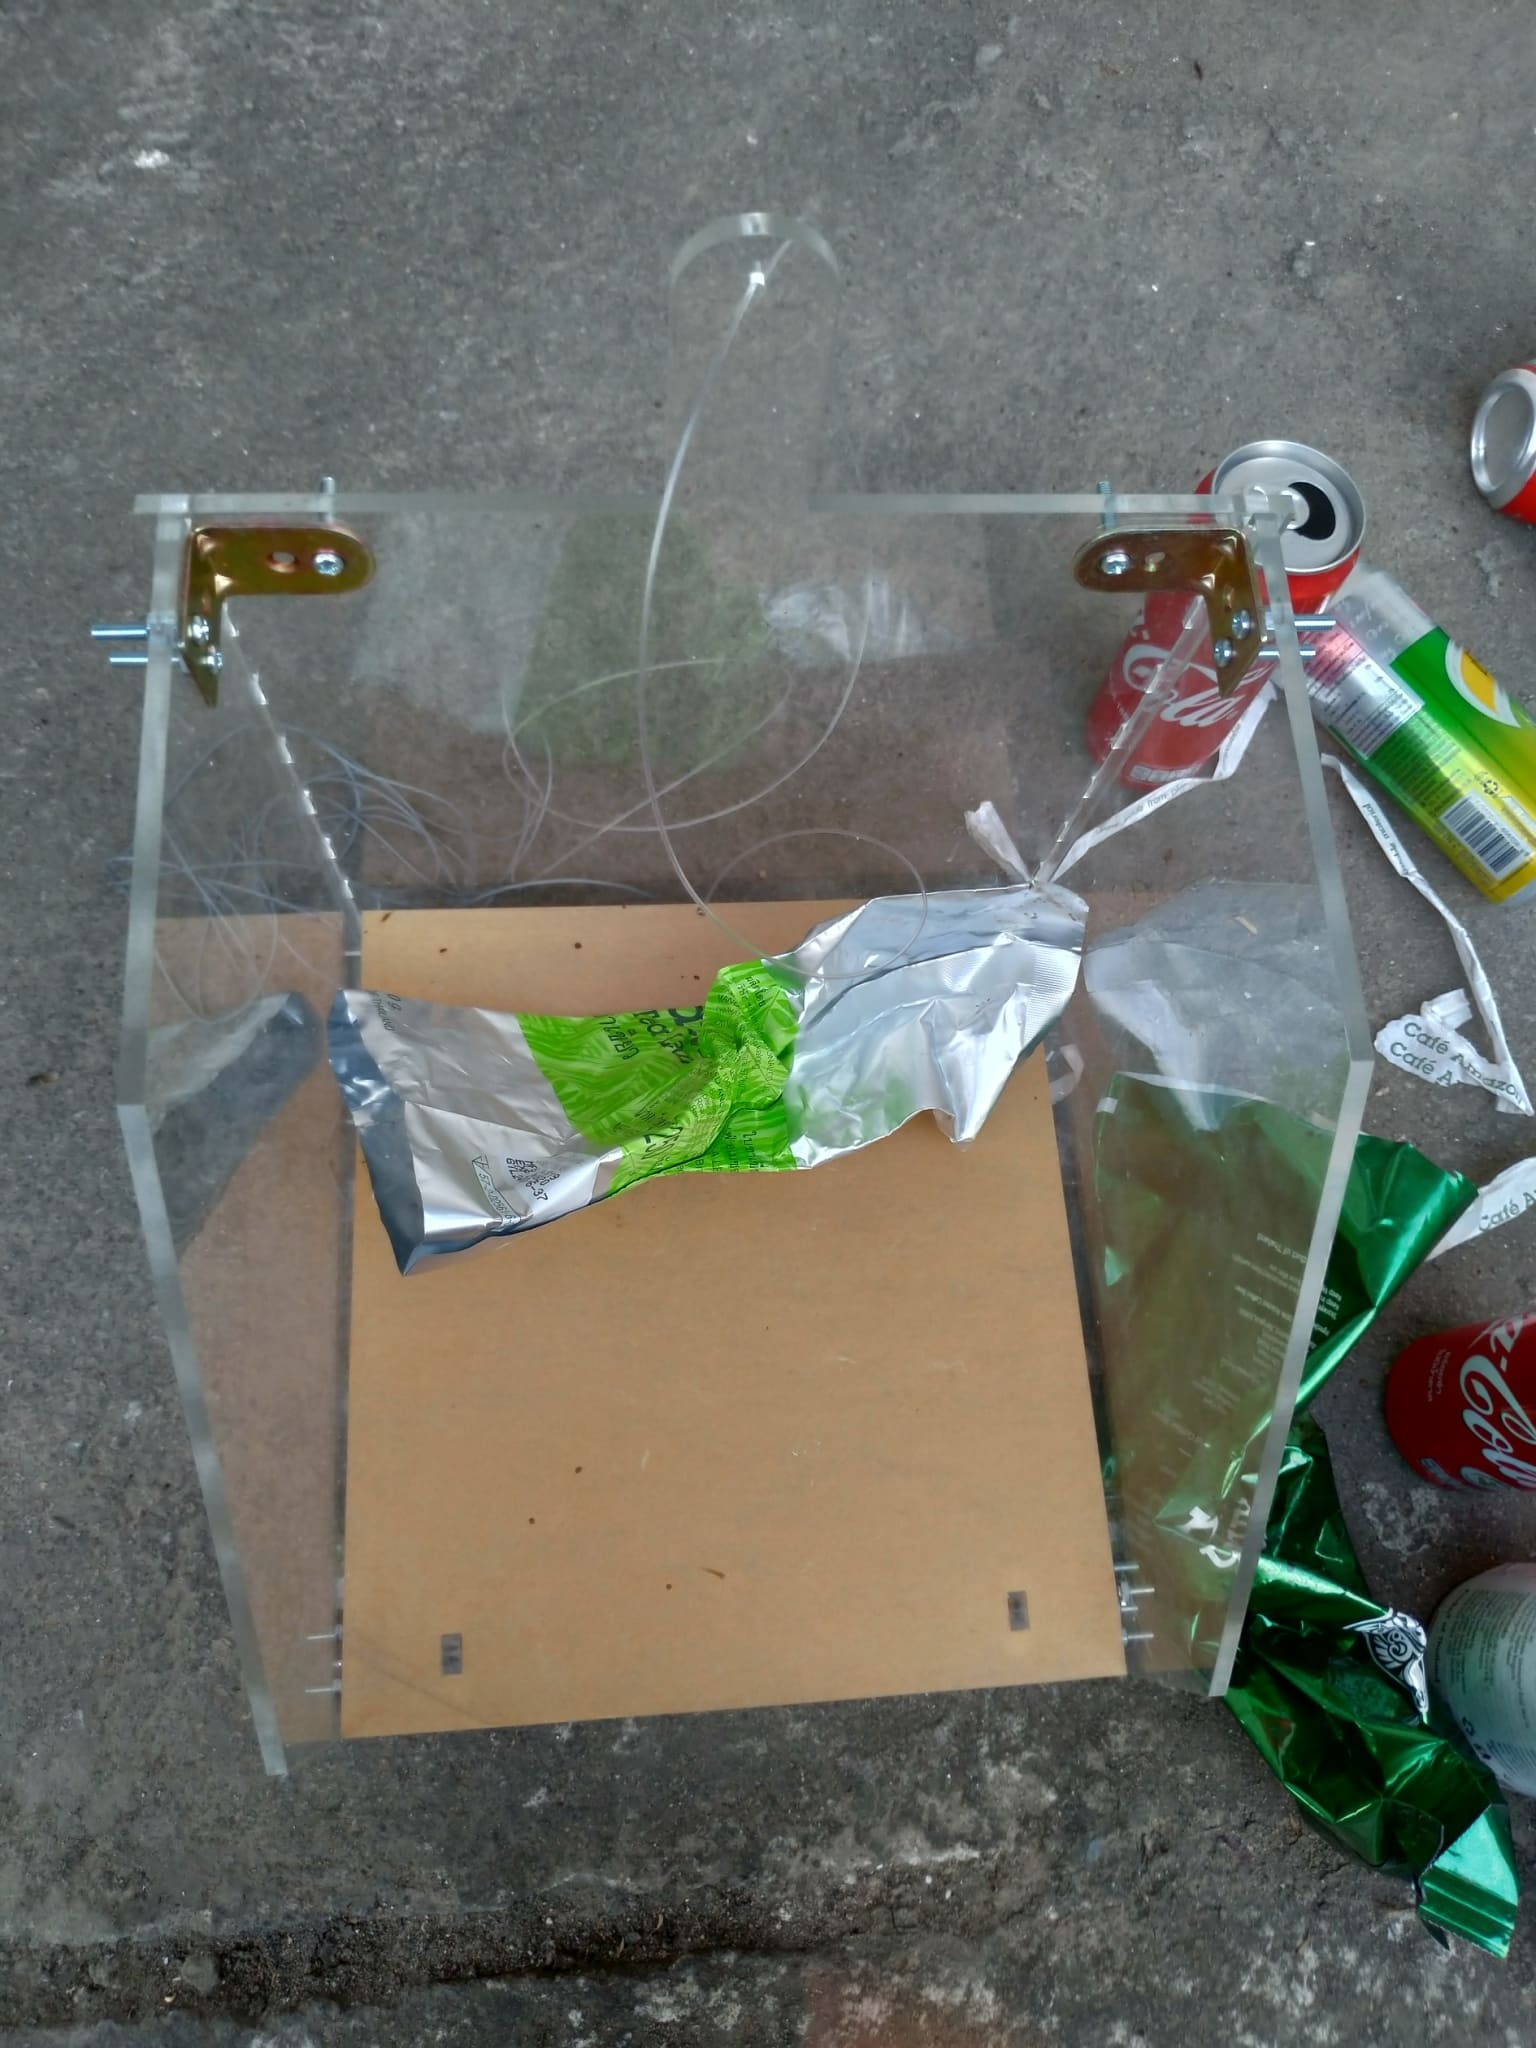AlCan: (1094, 434, 1367, 827), (1297, 568, 1533, 901), (1391, 1317, 1536, 1488), (1483, 348, 1536, 518)
Others: (1070, 1098, 1513, 1945), (350, 895, 1079, 1264)
